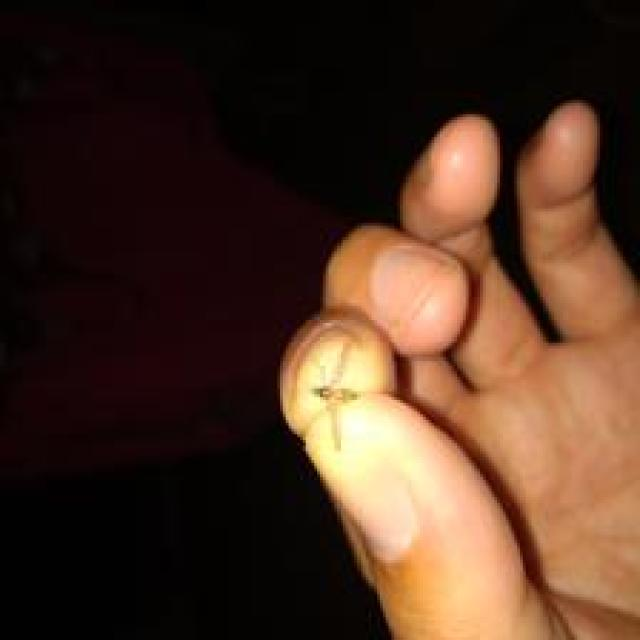Culex: (277, 313, 397, 453)
